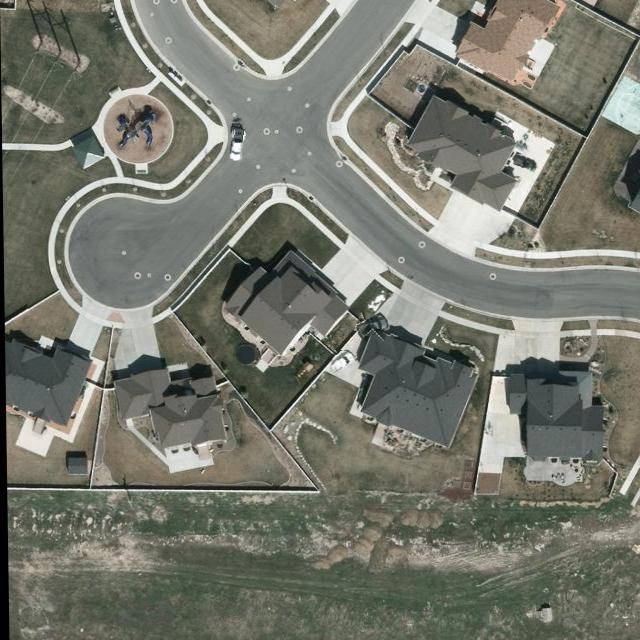vehicle: (354, 312, 389, 341), (329, 350, 355, 376), (228, 128, 245, 161), (513, 152, 537, 174)
